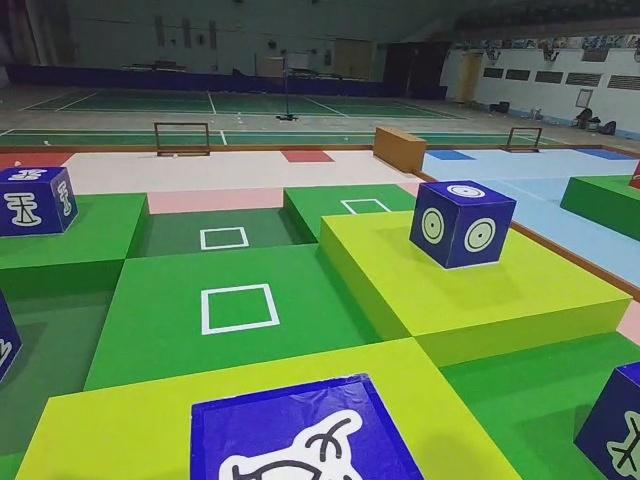R2 Real Blue: (174, 370, 421, 480), (411, 181, 520, 271), (575, 348, 640, 480), (0, 167, 76, 240)
